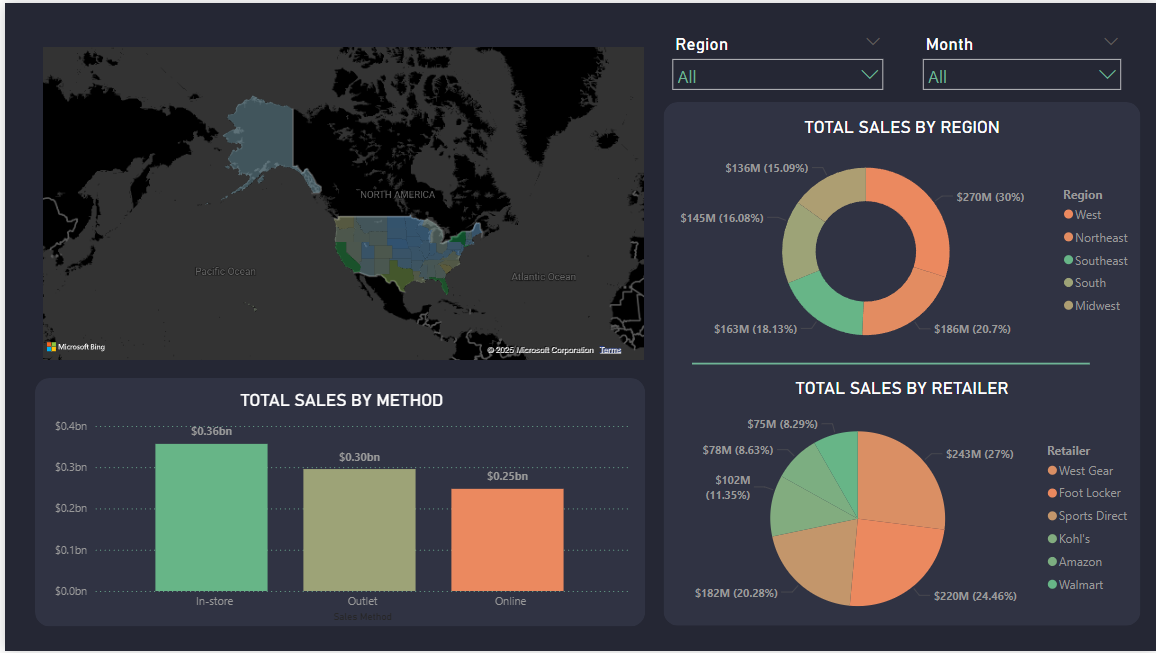

Layout of this report page (visuals, bound fields, positions):
{"tool":"powerbi","page":{"name":"Duplicate of Page 2","canvas":[1280,720],"ordinal":1},"visuals":[{"type":"filledMap","fields":{"Category":["Data Sales Adidas.State"]},"box":[36,44,678,358],"z":0},{"type":"shape","box":[34,416,678,276],"z":1000},{"type":"shape","box":[732,110,530,582],"z":2000},{"type":"donutChart","title":"TOTAL SALES BY REGION","fields":{"Category":["Data Sales Adidas.Region"],"Y":["Sum(Data Sales Adidas.Total Sales)"]},"box":[732,126,530,276],"z":3000},{"type":"pieChart","title":"TOTAL SALES BY RETAILER","fields":{"Category":["Data Sales Adidas.Retailer"],"Y":["Sum(Data Sales Adidas.Total Sales)"]},"box":[732,416,530,290],"z":4000},{"type":"slicer","fields":{"Values":["Data Sales Adidas.Region"]},"box":[732,28,254,82],"z":5000},{"type":"slicer","fields":{"Values":["Data Sales Adidas.Invoice Date.Variation.Date Hierarchy.Month"]},"box":[1010,28,240,82],"z":6000},{"type":"clusteredColumnChart","title":"TOTAL SALES BY METHOD ","fields":{"Category":["Data Sales Adidas.Sales Method"],"Y":["Sum(Data Sales Adidas.Total Sales)"]},"box":[50,430,648,262],"z":7000},{"type":"shape","box":[764,372,442,58],"z":7001}]}

Visuals, with their boxes in screenshot pixels (x1, y1, x2, y2), scaled from the page's 1280x720 canvas onto the 1156x653 screenshot:
filledMap - Data Sales Adidas.State: detection(33, 40, 645, 365)
shape: detection(31, 377, 643, 628)
shape: detection(661, 100, 1140, 628)
"TOTAL SALES BY REGION" donutChart: detection(661, 114, 1140, 365)
"TOTAL SALES BY RETAILER" pieChart: detection(661, 377, 1140, 640)
slicer - Data Sales Adidas.Region: detection(661, 25, 890, 100)
slicer - Data Sales Adidas.Invoice Date.Variation.Date Hierarchy.Month: detection(912, 25, 1129, 100)
"TOTAL SALES BY METHOD " clusteredColumnChart: detection(45, 390, 630, 628)
shape: detection(690, 337, 1089, 390)
